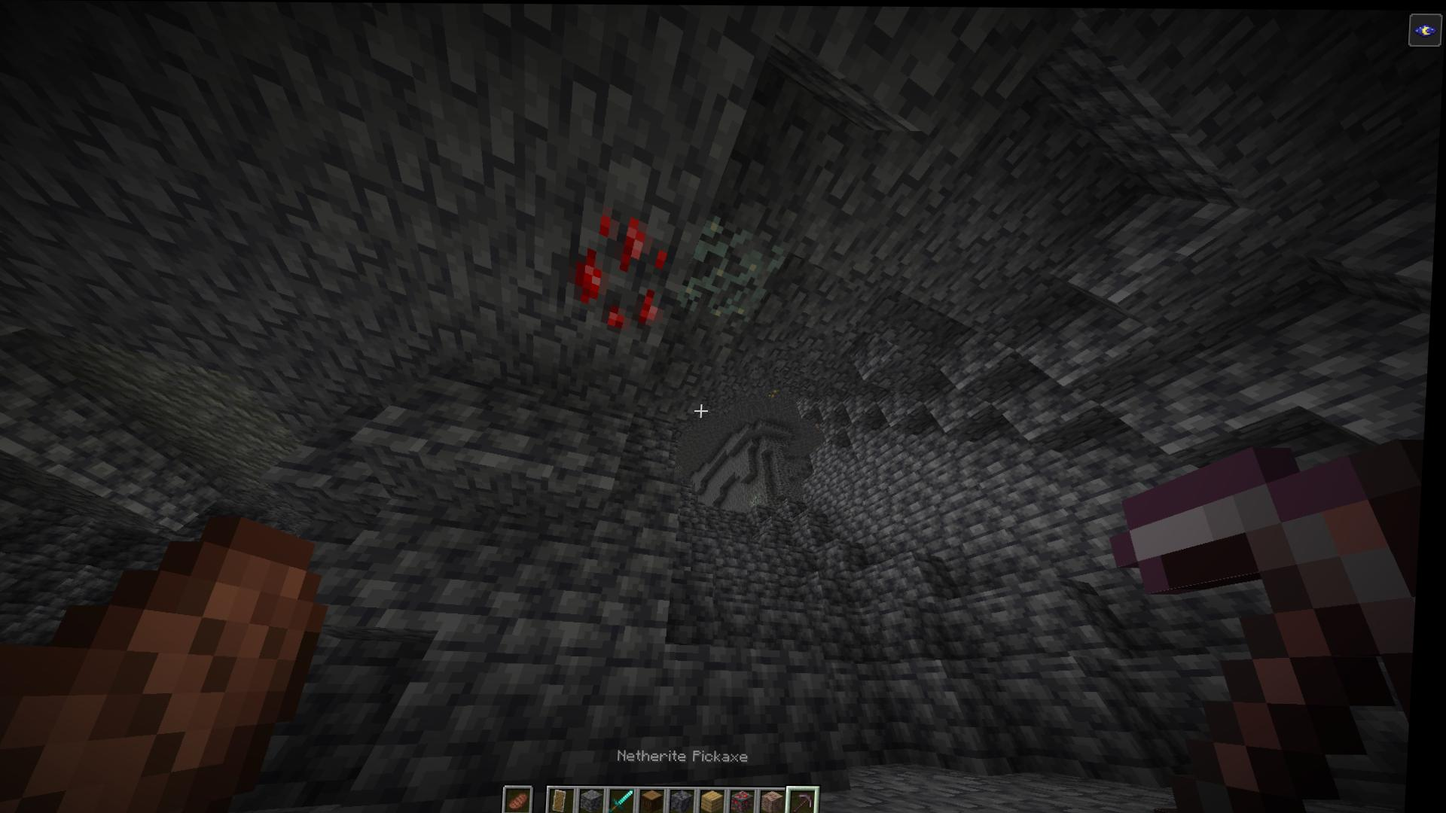redstone ore: (566, 200, 683, 337)
